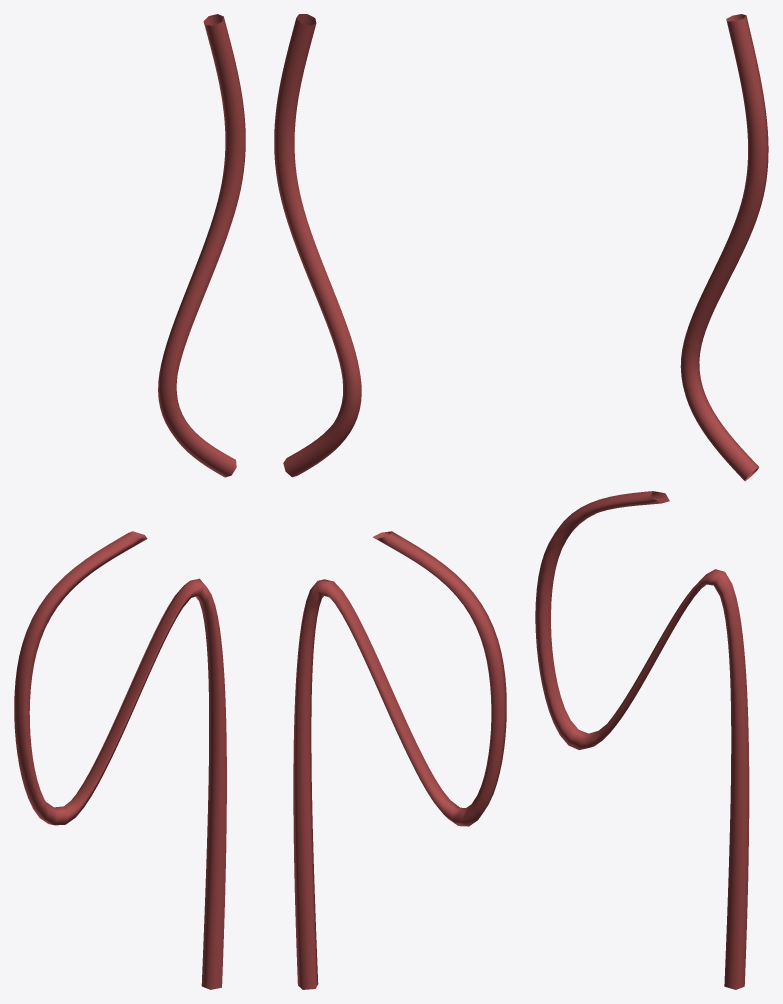
The model's file is snipThree.fbx.
The picture shows the model from 3 angles, left to right: view 1: azimuth 30°, elevation 25°; view 2: azimuth 150°, elevation 25°; view 3: azimuth 330°, elevation 25°; orthographic projection.
Visible parts, largest first — view 1: extrudedSurface23, extrudedSurface18; view 2: extrudedSurface23, extrudedSurface18; view 3: extrudedSurface23, extrudedSurface18.
Boxes of the visible parts, bbox=[...] form: extrudedSurface23: bbox=[14, 531, 226, 989]; extrudedSurface18: bbox=[158, 14, 245, 477]; extrudedSurface23: bbox=[293, 531, 506, 989]; extrudedSurface18: bbox=[274, 14, 361, 477]; extrudedSurface23: bbox=[535, 491, 749, 989]; extrudedSurface18: bbox=[680, 14, 768, 481].
Bounding box in the file's own units: 14.69 × 59.39 × 1.13.
